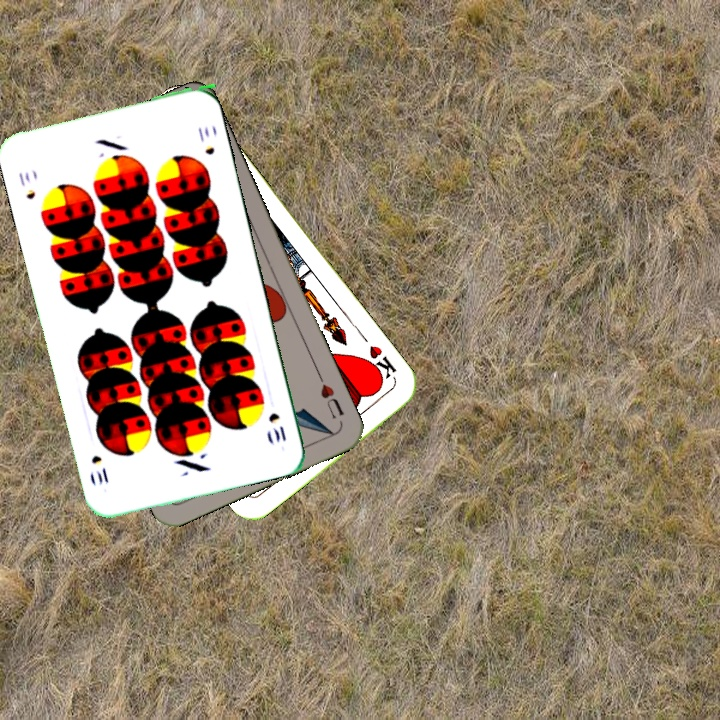HK: (360, 341, 399, 385)
HU: (313, 369, 347, 421)
S10: (264, 409, 289, 447), (14, 167, 38, 203)
